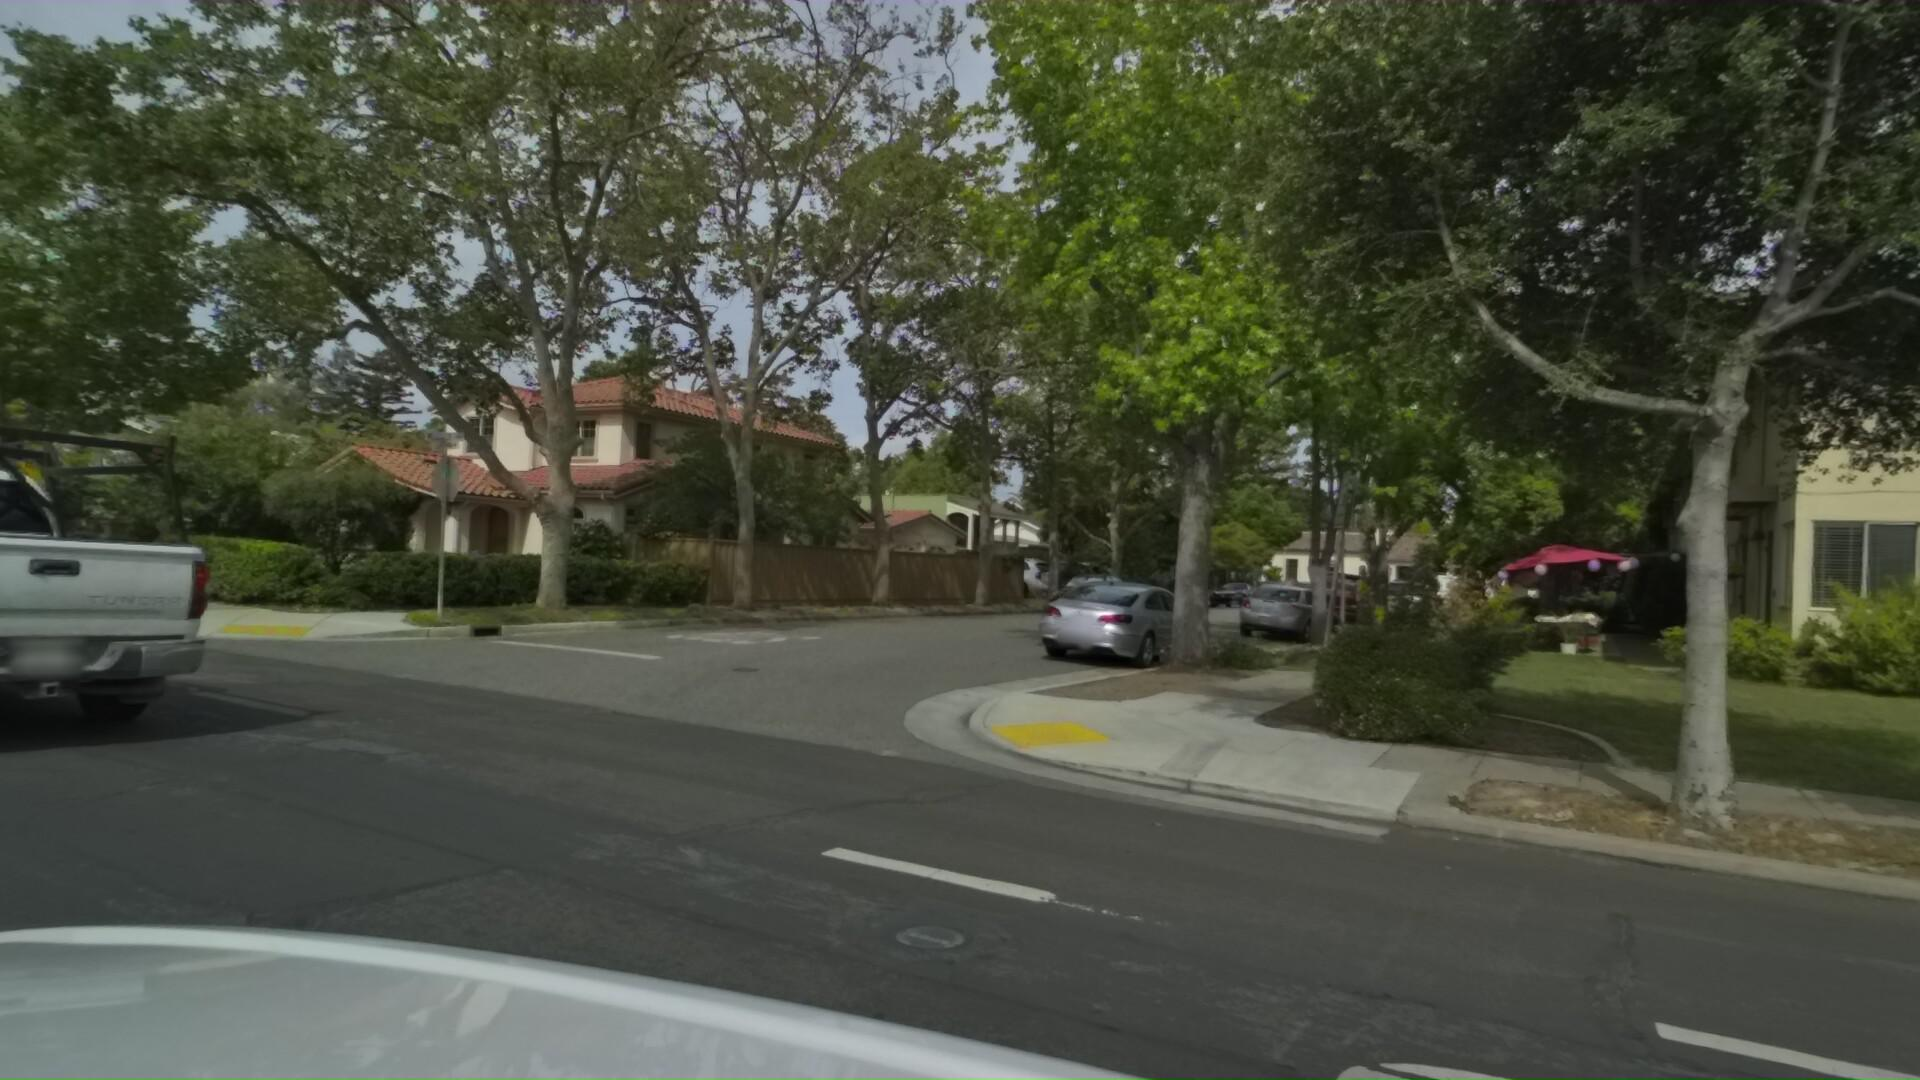car: (0, 378, 202, 770), (996, 576, 1188, 673), (1271, 564, 1378, 638), (1209, 579, 1317, 645), (944, 554, 1056, 599), (1029, 568, 1122, 615), (1006, 558, 1102, 597), (1358, 576, 1429, 626), (1196, 580, 1254, 611)
